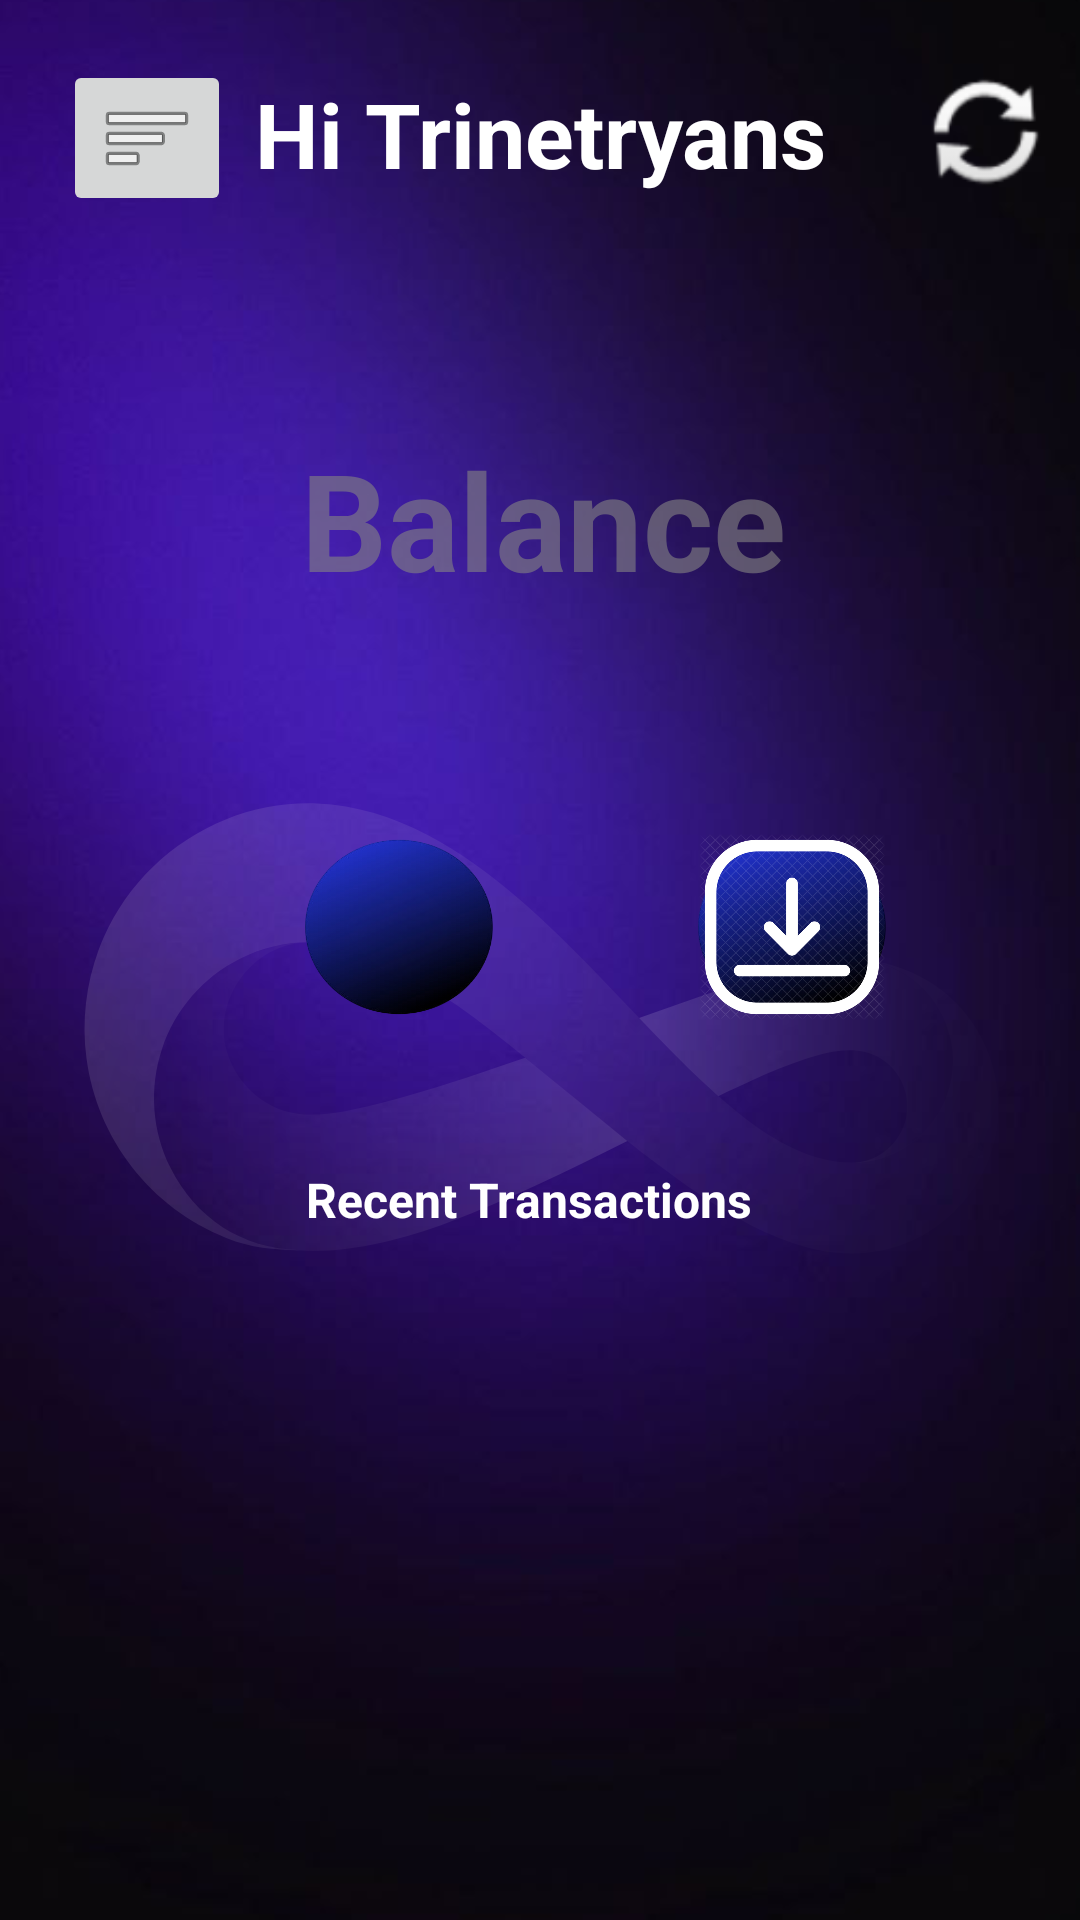

Icons on this 1080×1920 Android screen, each with the point to tap as (x=x, y=y):
popup sync: (x=985, y=132)
receive: (x=792, y=927)
sort by size: (x=147, y=146)
